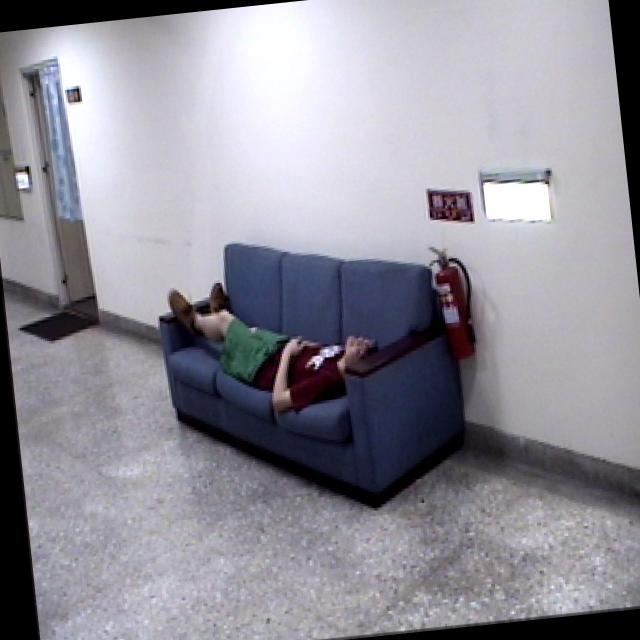lie: (150, 262, 388, 433)
